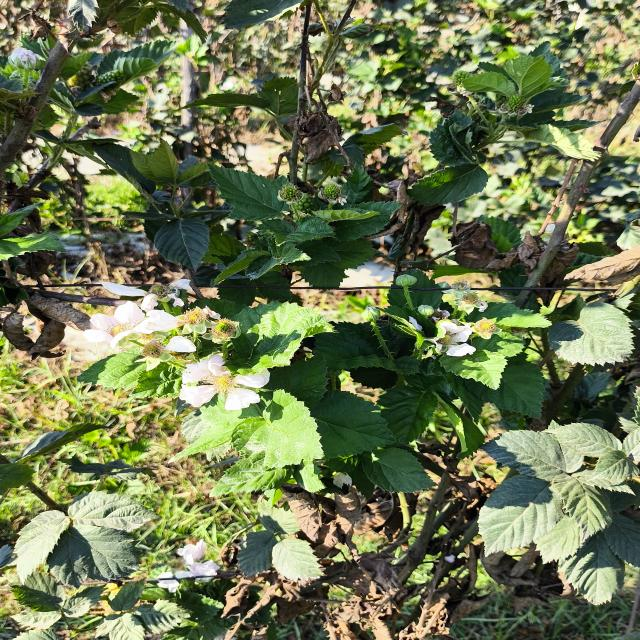boton: (361, 306, 381, 322), (395, 273, 417, 287), (417, 305, 434, 317)
flor: (179, 354, 270, 411), (84, 301, 145, 347), (429, 320, 476, 356), (136, 310, 179, 334), (176, 539, 206, 565), (455, 292, 488, 313), (188, 560, 219, 577)
